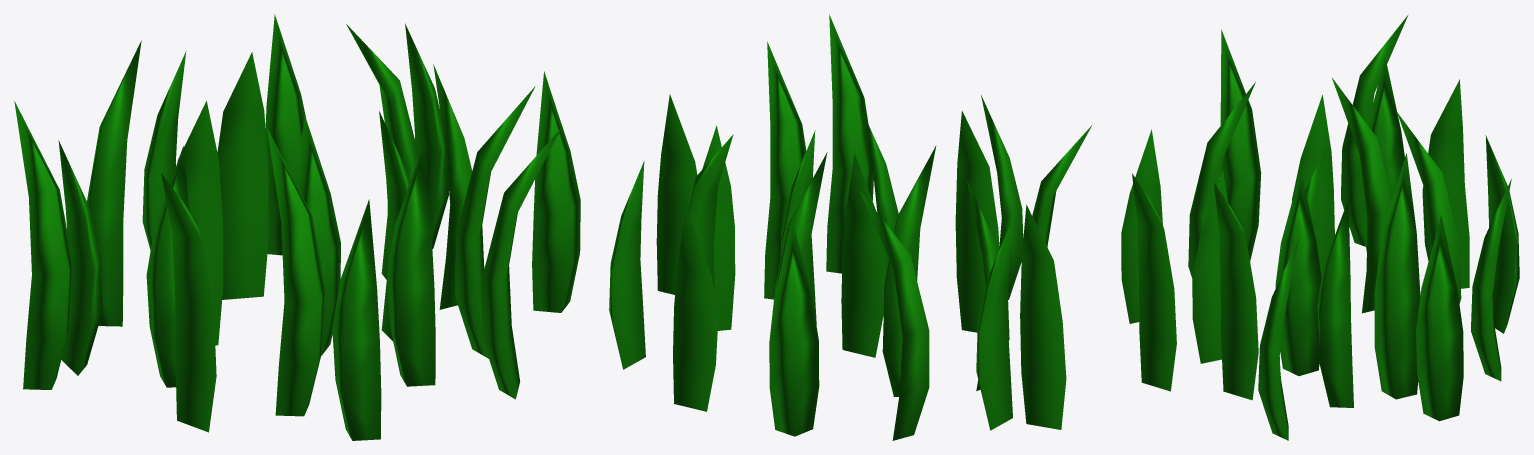
3 renders of one model, left to right at view 1: azimuth 30°, elevation 25°; view 2: azimuth 150°, elevation 25°; view 3: azimuth 270°, elevation 25°, orthographic. The views are drawn at different scales.
Parts seen in each view (by area): view 1: grass_v6_03; view 2: grass_v6_03; view 3: grass_v6_03.
Boxes of the visible parts, bbox=[...] form: grass_v6_03: bbox=[14, 14, 580, 440]; grass_v6_03: bbox=[609, 14, 1091, 440]; grass_v6_03: bbox=[1121, 14, 1519, 440].
Bounding box in the file's own units: 0.892 × 0.4501 × 0.7175.
